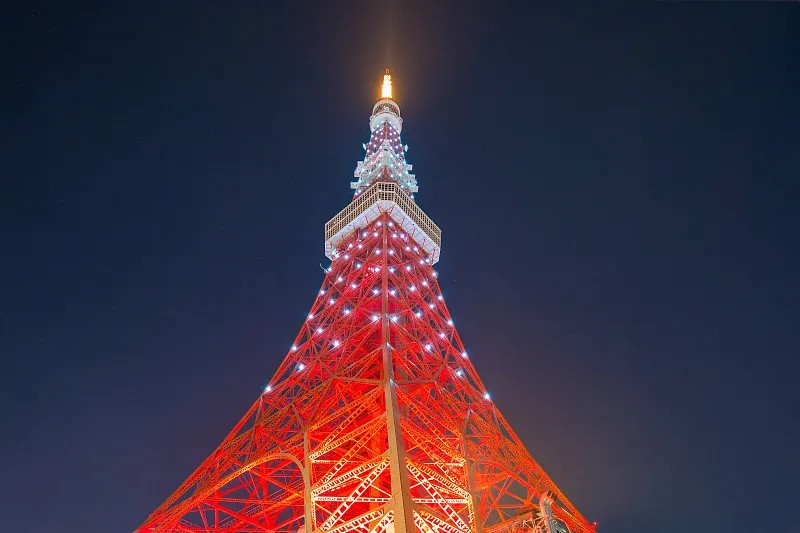Tokyo: (132, 63, 600, 532)
